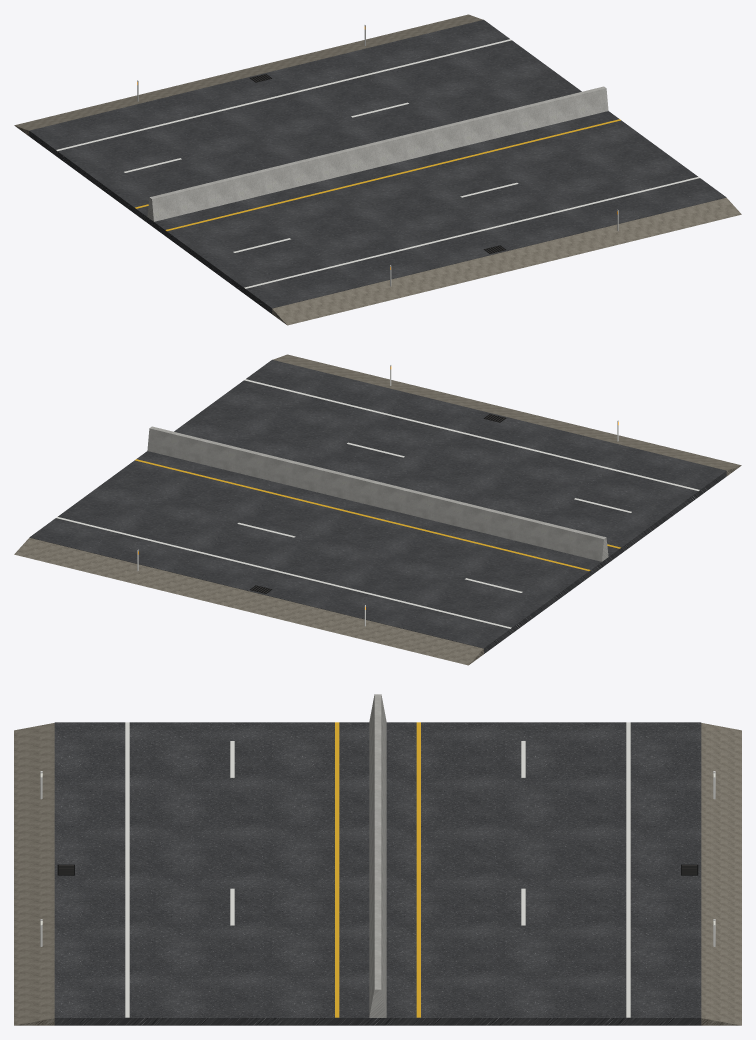
File: highway-straight-section.glb
3 renders of one model, top to bottom at view 1: azimuth 30°, elevation 25°; view 2: azimuth 150°, elevation 25°; view 3: azimuth 270°, elevation 25°, orthographic. The views are drawn at different scales.
Visible parts, largest first — view 1: Highway_Straight_Section; view 2: Highway_Straight_Section; view 3: Highway_Straight_Section.
Part boxes in pixels (bbox=[...]): Highway_Straight_Section: bbox=[14, 14, 741, 325]; Highway_Straight_Section: bbox=[14, 354, 741, 665]; Highway_Straight_Section: bbox=[14, 694, 741, 1025].
Bounding box in the file's own units: 24 × 1.37 × 25.
10 materials, 3 textured.
